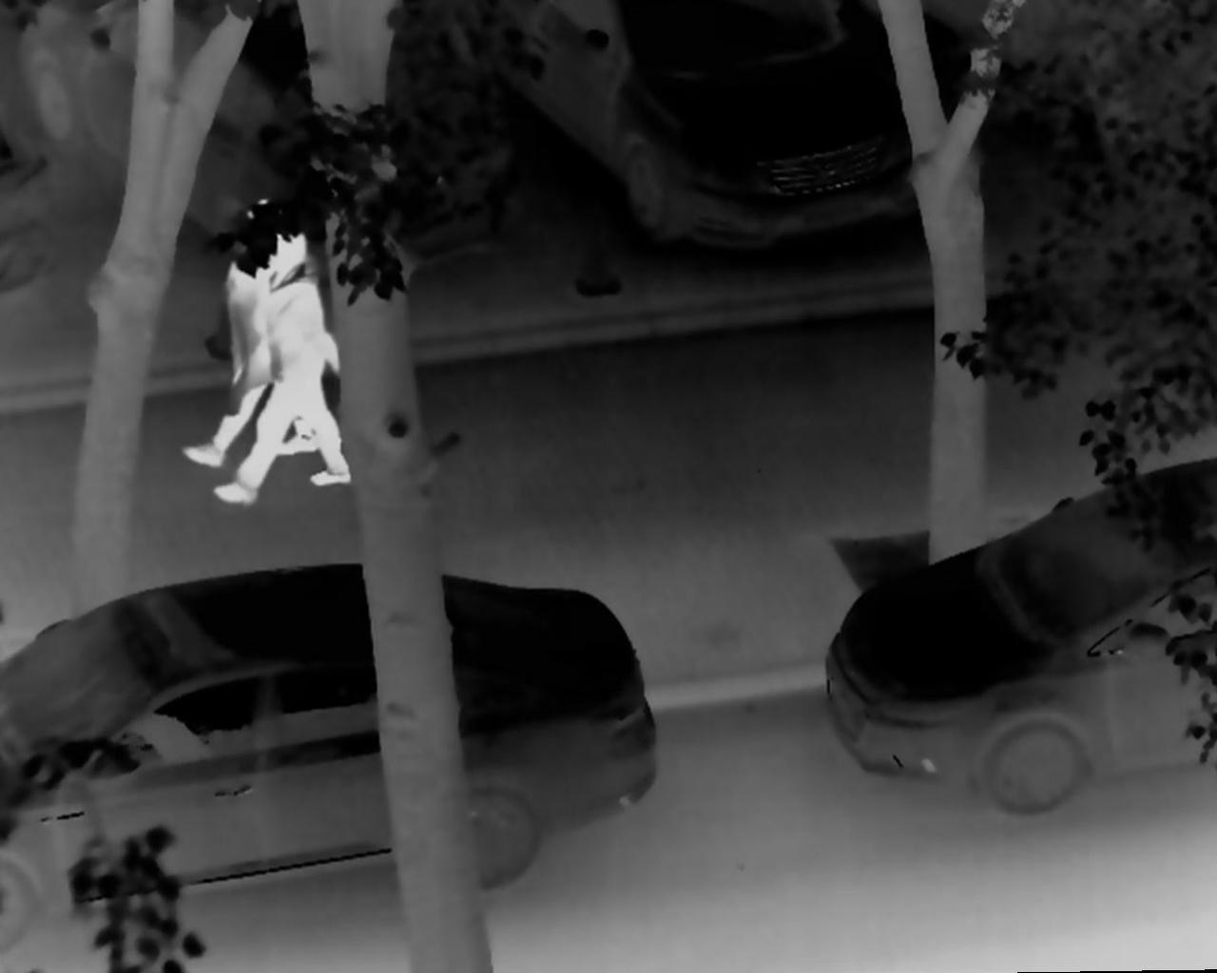person: (181, 200, 349, 470), (213, 222, 364, 505)
